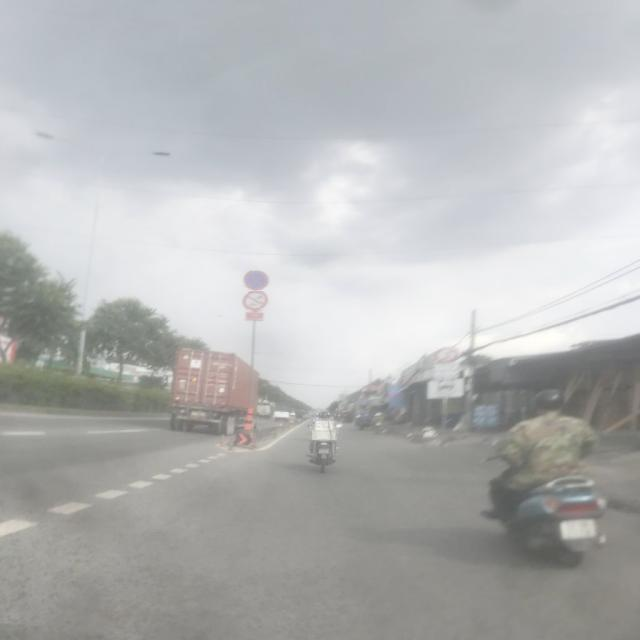cam_dung_xe_va_do_xe: (242, 268, 270, 290)
cam_xe_2_banh_va_xe_3_banh_co_dong_co: (241, 291, 268, 312)
